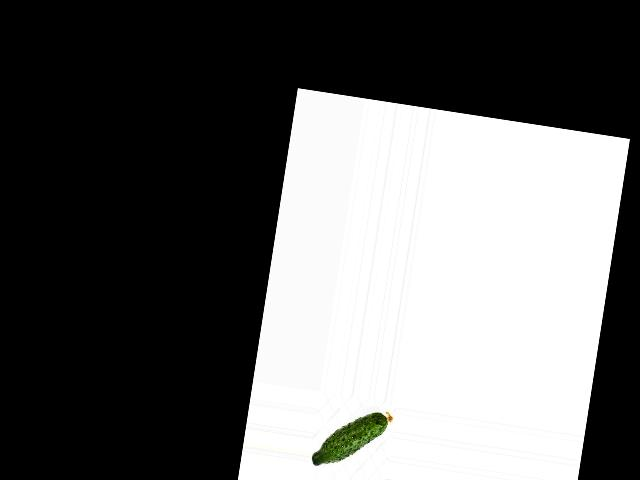cucumber: (311, 402, 394, 476)
